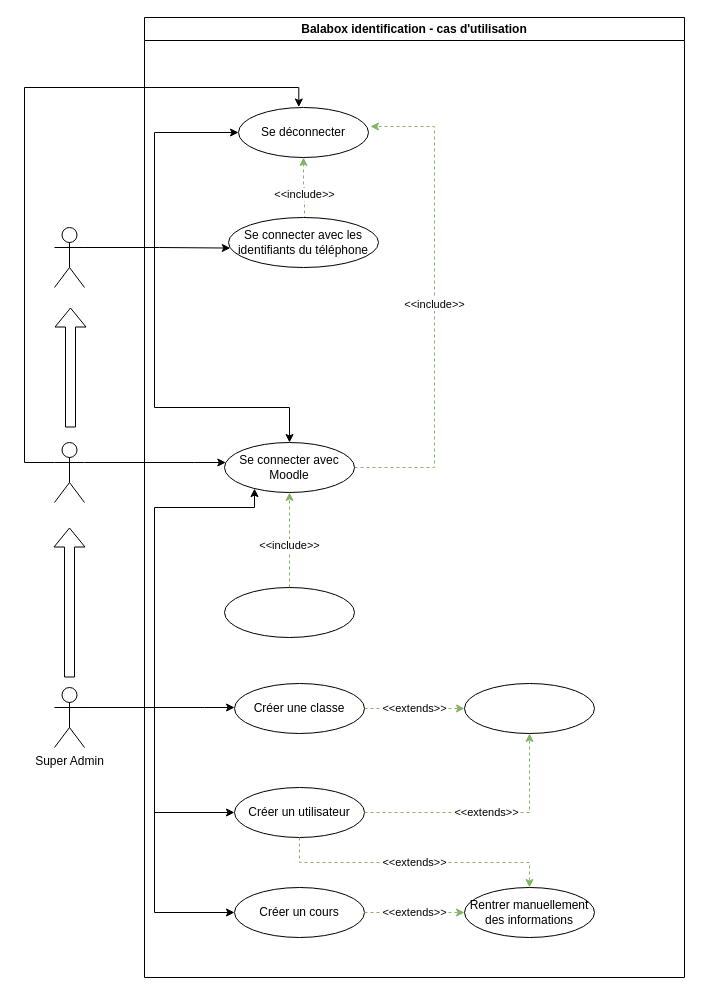
The diagram is 702 pixels wide and 995 high, and some of its shapes have lost their labels. The centre of each missing label's shape, as x and y in pixels:
"Elève" belongs at point (69, 257).
"Importer un fichier CSV" belongs at point (529, 708).
"Posséder un compte Moodle" belongs at point (289, 612).
"Professeur" belongs at point (69, 472).
